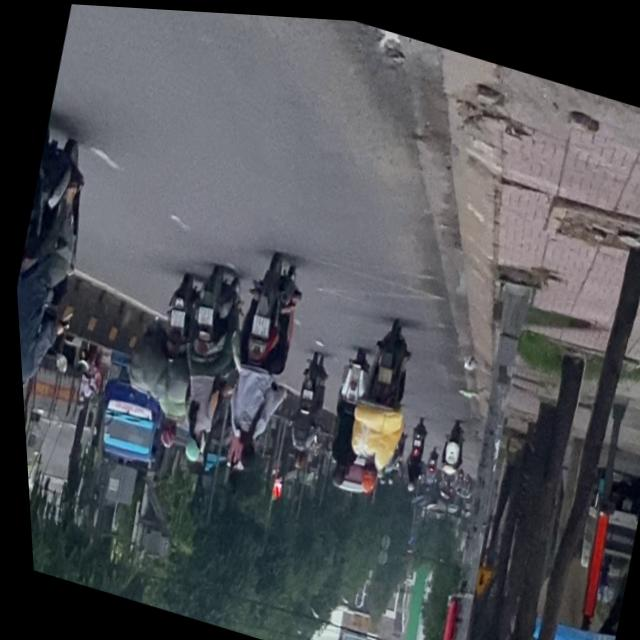helmet: (172, 428, 199, 462), (149, 415, 173, 449)
licenseplate: (5, 109, 116, 455), (193, 240, 315, 480), (150, 256, 253, 469), (124, 265, 215, 455)
motorcyclist: (227, 430, 253, 470)
nohelmet: (245, 310, 266, 334), (190, 301, 209, 323), (163, 305, 181, 326)
